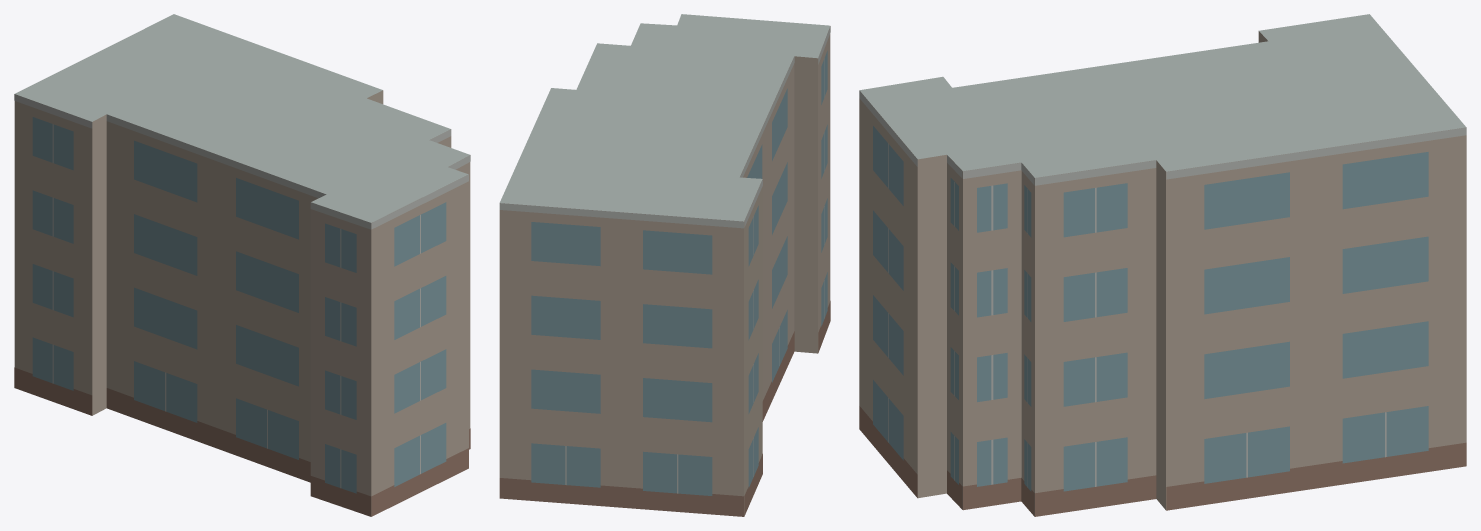
The model's file is survey-upis-32697752.glb.
3 views of the same model, side by side, from view 1: azimuth 30°, elevation 25°; view 2: azimuth 150°, elevation 25°; view 3: azimuth 270°, elevation 25° (orthographic). The views are drawn at different scales.
Visible parts, largest first — view 1: survey-upis-32697752.tmp; view 2: survey-upis-32697752.tmp; view 3: survey-upis-32697752.tmp.
Boxes of the visible parts, x1,y1,x2,y2 form: survey-upis-32697752.tmp: (14, 14, 470, 516); survey-upis-32697752.tmp: (499, 14, 830, 516); survey-upis-32697752.tmp: (859, 14, 1466, 516).
Bounding box in the file's own units: 10.93 × 10.52 × 17.09.
